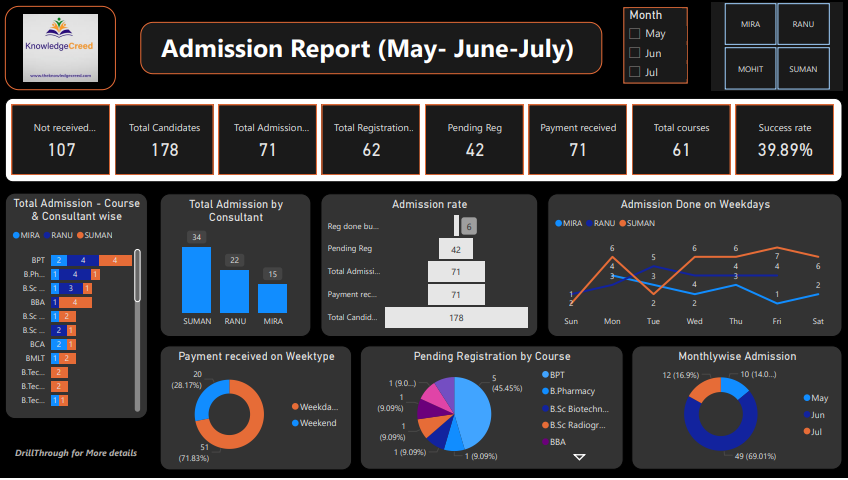

Layout of this report page (visuals, bound fields, positions):
{"tool":"powerbi","page":{"name":"Summary ","canvas":[1280,720],"ordinal":0},"visuals":[{"type":"barChart","title":"Total Admission - Course & Consultant wise ","fields":{"Y":["_Measures.Total Admission done"],"Category":["Admission Data. Course "],"Series":["Admission Data. Consultant "]},"box":[12.2,293.2,213.5,339.2],"z":0},{"type":"cardVisual","fields":{"Data":["_Measures.Payment Not received","_Measures.Total Candidates","_Measures.Total Admission done","_Measures.Total Registration Done","_Measures.Registration Pending","_Measures.Payment received","_Measures.Total courses","_Measures.Success rate"]},"box":[11.8,151.2,1254.8,126],"z":1000},{"type":"slicer","fields":{"Values":["Date Table.Month"]},"box":[939,15.1,95.7,114.2],"z":2000},{"type":"columnChart","title":"Total Admission by Consultant ","fields":{"Category":["Admission Data. Consultant "],"Y":["_Measures.Total Admission done"]},"box":[243.6,293.6,226.9,215.4],"z":3000},{"type":"donutChart","title":"Payment received on Weektype","fields":{"Y":["_Measures.Total Admission done"],"Category":["Date Table.Weektype"]},"box":[243.6,521.8,288.5,187.2],"z":4000},{"type":"slicer","fields":{"Values":["Admission Data. Consultant "]},"box":[1070,6.7,196.5,132.7],"z":5000},{"type":"lineChart","title":"Admission Done on Weekdays","fields":{"Y":["_Measures.Total Admission done"],"Category":["Date Table.Weekday"],"Series":["Admission Data. Consultant "]},"box":[824.8,294,441.8,215],"z":6000},{"type":"funnel","title":"Admission rate","fields":{"Y":["_Measures.Reg done but not admit","_Measures.Registration Pending","_Measures.Total Admission done","_Measures.Payment received","_Measures.Total Candidates"]},"box":[484.6,294,325.9,215],"z":7000},{"type":"pieChart","title":"Pending Registration  by  Course ","fields":{"Category":["Admission Data. Course "],"Y":["_Measures.Pending Reg"]},"box":[544.3,522.4,394.8,186.5],"z":8000},{"type":"textbox","box":[215.4,36.9,692.3,78.5],"z":9000},{"type":"image","box":[11.8,13.4,166.3,126],"z":10000},{"type":"donutChart","title":"Monthlywise Admission ","fields":{"Y":["_Measures.Total Admission done"],"Category":["Date Table.Month"]},"box":[950.8,522.4,315.8,186.5],"z":11000},{"type":"actionButton","title":"Click Here more Details ","box":[12.2,652.7,213.5,56.8],"z":12000}]}

Visuals, with their boxes in screenshot pixels (x1, y1, x2, y2), scaled from the page's 1280x720 canvas onto the 848x480 screenshot:
"Total Admission - Course & Consultant wise " barChart: select_region(8, 195, 150, 422)
cardVisual - _Measures.Payment Not received x _Measures.Total Candidates: select_region(8, 101, 839, 185)
slicer - Date Table.Month: select_region(622, 10, 685, 86)
"Total Admission by Consultant " columnChart: select_region(161, 196, 312, 339)
"Payment received on Weektype" donutChart: select_region(161, 348, 353, 473)
slicer - Admission Data. Consultant : select_region(709, 4, 839, 93)
"Admission Done on Weekdays" lineChart: select_region(546, 196, 839, 339)
"Admission rate" funnel: select_region(321, 196, 537, 339)
"Pending Registration  by  Course " pieChart: select_region(361, 348, 622, 473)
textbox: select_region(143, 25, 601, 77)
image: select_region(8, 9, 118, 93)
"Monthlywise Admission " donutChart: select_region(630, 348, 839, 473)
"Click Here more Details " actionButton: select_region(8, 435, 150, 473)
